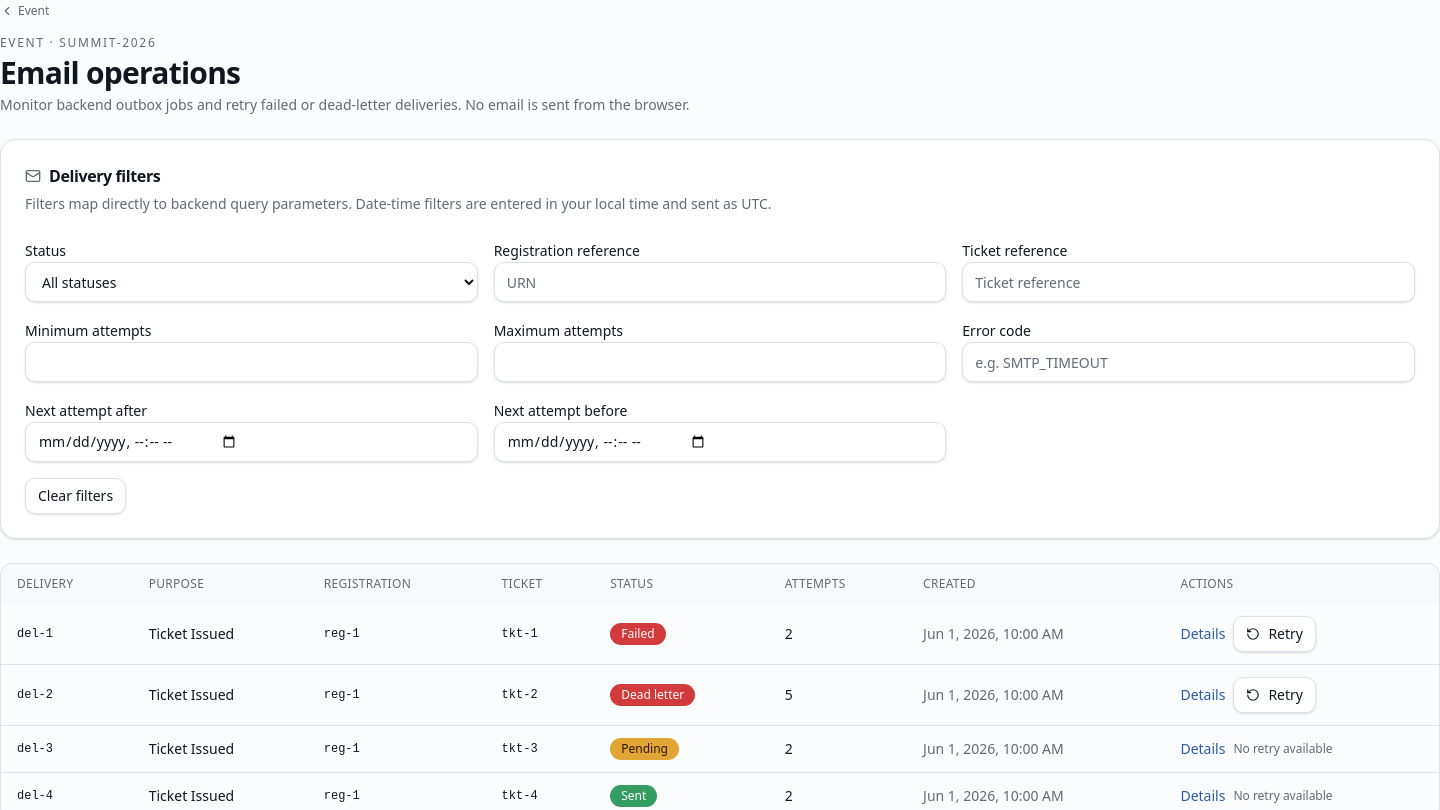
Scenario: email delivery operations › shows backend retry conflicts without altering the list optimistically
The image size is (1440, 810).
Expected: the text "del-1" is shown, [1,604,133,664]
Step 1. Click the button "Retry" in the row of "del-1" → click(1275, 634), box [1233,616,1316,652]
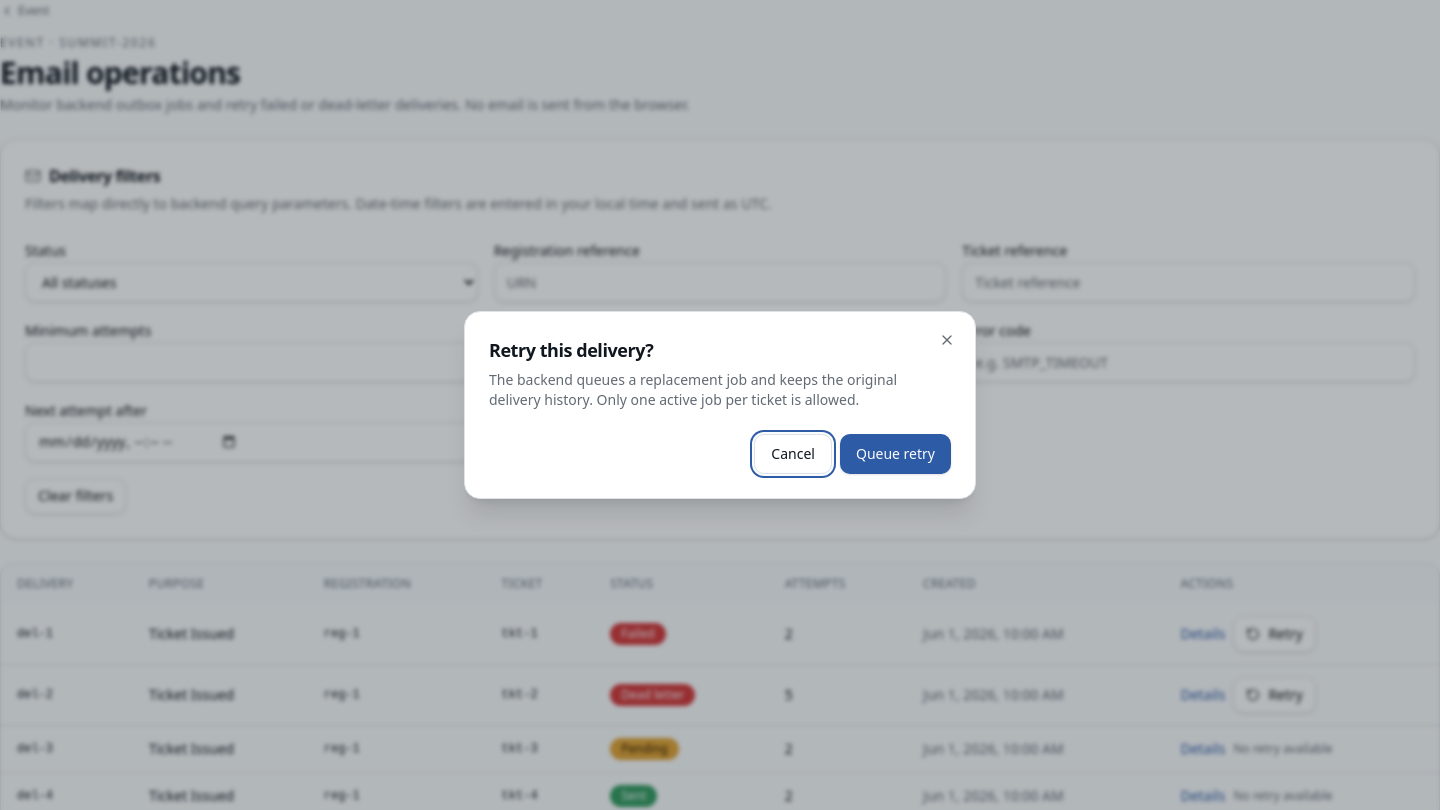
Step 2. Click the button "Queue retry" → click(896, 454), box [840,434,951,474]
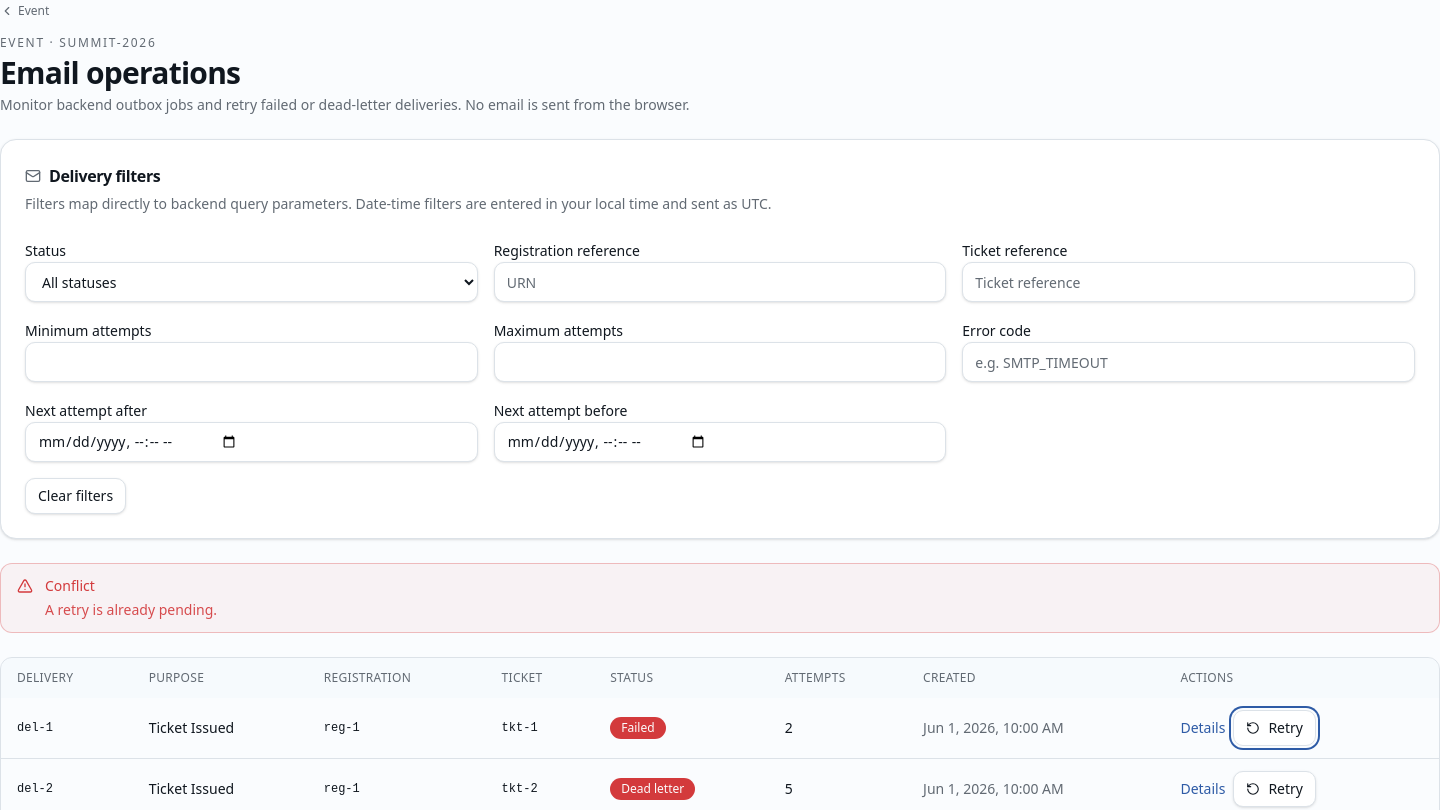
Expected: the text "Failed" is shown, [610,717,666,739]
Result: the text "A retry is already pending." is shown at [45,600,217,619]
